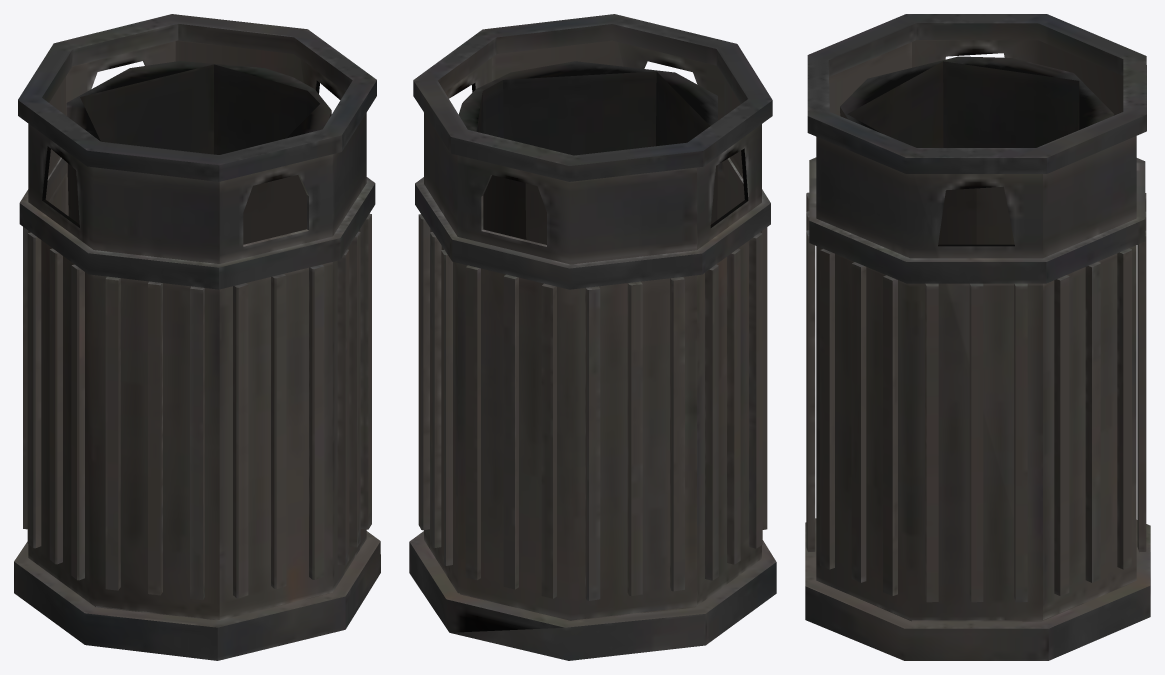
Rendered from bin.glb.
3 renders of one model, left to right at view 1: azimuth 30°, elevation 25°; view 2: azimuth 150°, elevation 25°; view 3: azimuth 270°, elevation 25°, orthographic.
Parts seen in each view (by area): view 1: trash-can_body.001; view 2: trash-can_body.001; view 3: trash-can_body.001.
Part boxes in pixels (left/top/right/bottom): trash-can_body.001: left=14, top=14, right=380, bottom=660; trash-can_body.001: left=409, top=14, right=776, bottom=660; trash-can_body.001: left=805, top=14, right=1150, bottom=660.
Size of the model in its own units: 0.5861 by 0.9347 by 0.582.
1 material, 1 textured.
